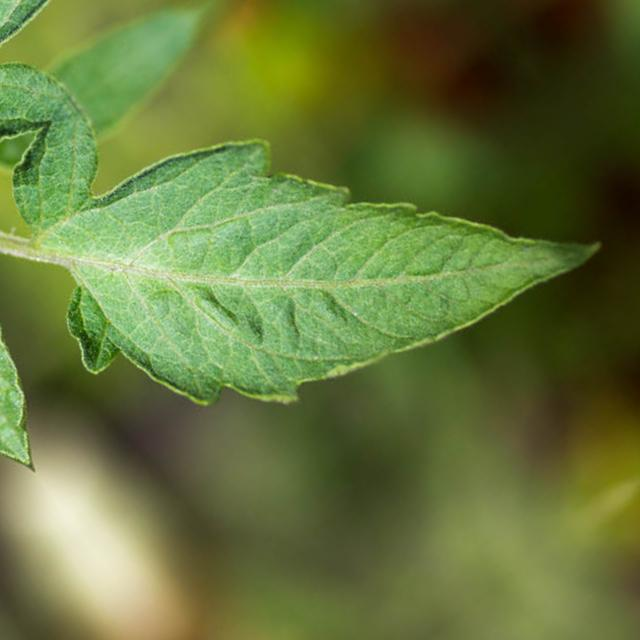Tomato leaf: (0, 0, 640, 582), (0, 216, 198, 625)
